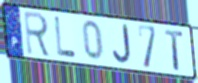0: (82, 19, 106, 62)
7: (137, 23, 157, 70)
J: (112, 23, 132, 66)
L: (53, 15, 77, 60)
R: (23, 9, 53, 59)
T: (163, 28, 185, 73)
